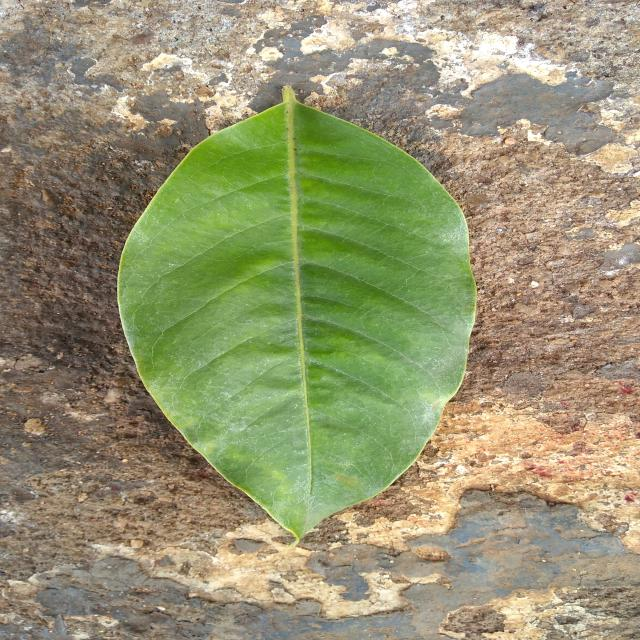sampige: (118, 86, 476, 542)
